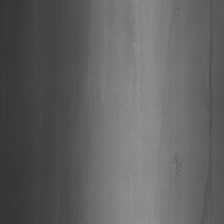inclusion: (199, 3, 218, 222), (170, 146, 185, 189)
